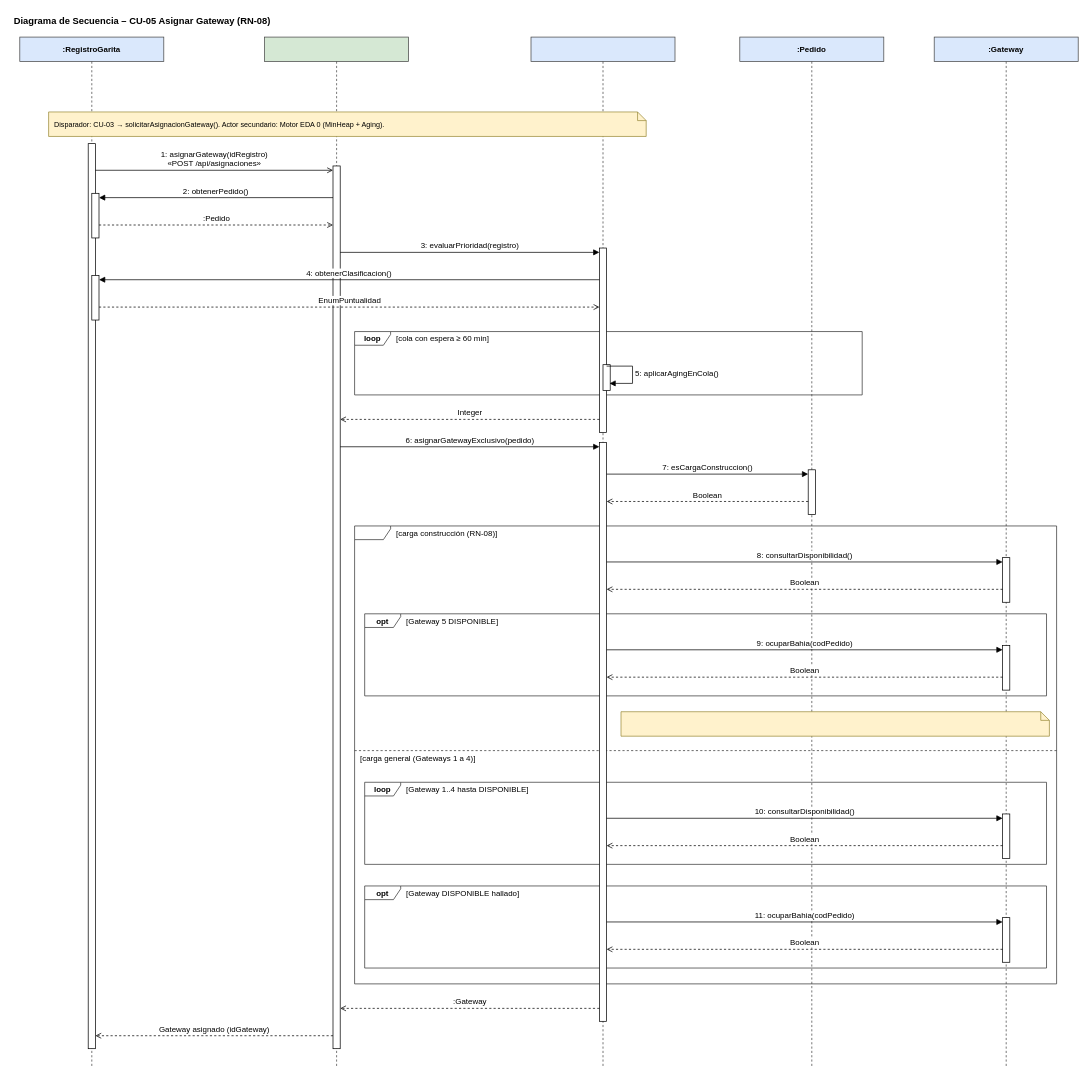
This 1091x1079 diagram has some shape labels left out. Each missing label, with the box of its shape:
:ControladorAsignacion: (264, 36, 409, 1066)
:MotorAsignacionEDA0: (530, 36, 675, 1066)
alt: (354, 525, 1057, 984)
RN-08: construcción solo en Gateway 5; si está OCUPADO queda en cola (aging).: (620, 711, 1049, 736)
